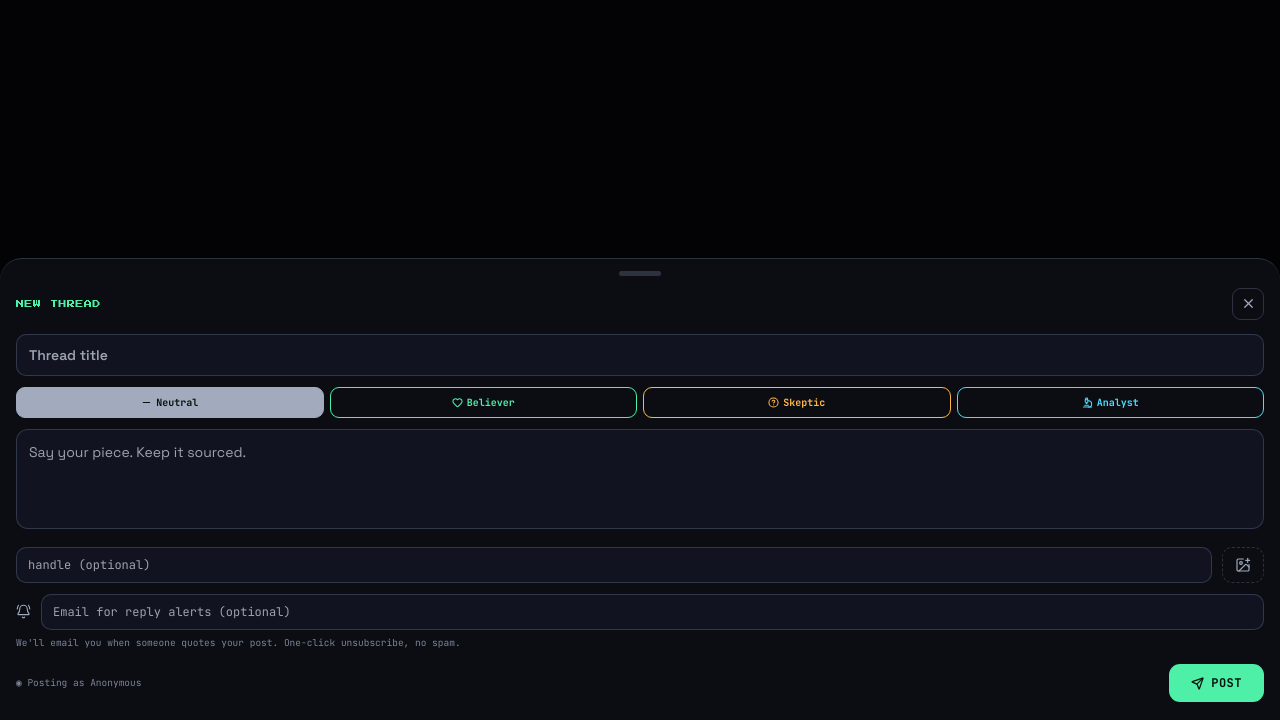
Test case: Composer › toasts 'slow down — too many posts' when the mutation rejects with a 429 ApiError
This screenshot has width=1280, height=720.
Type "Body text here" into the text box with placeholder "Say your piece. Keep it sourced.". click: (640,479)
box: [16,429,1264,529]
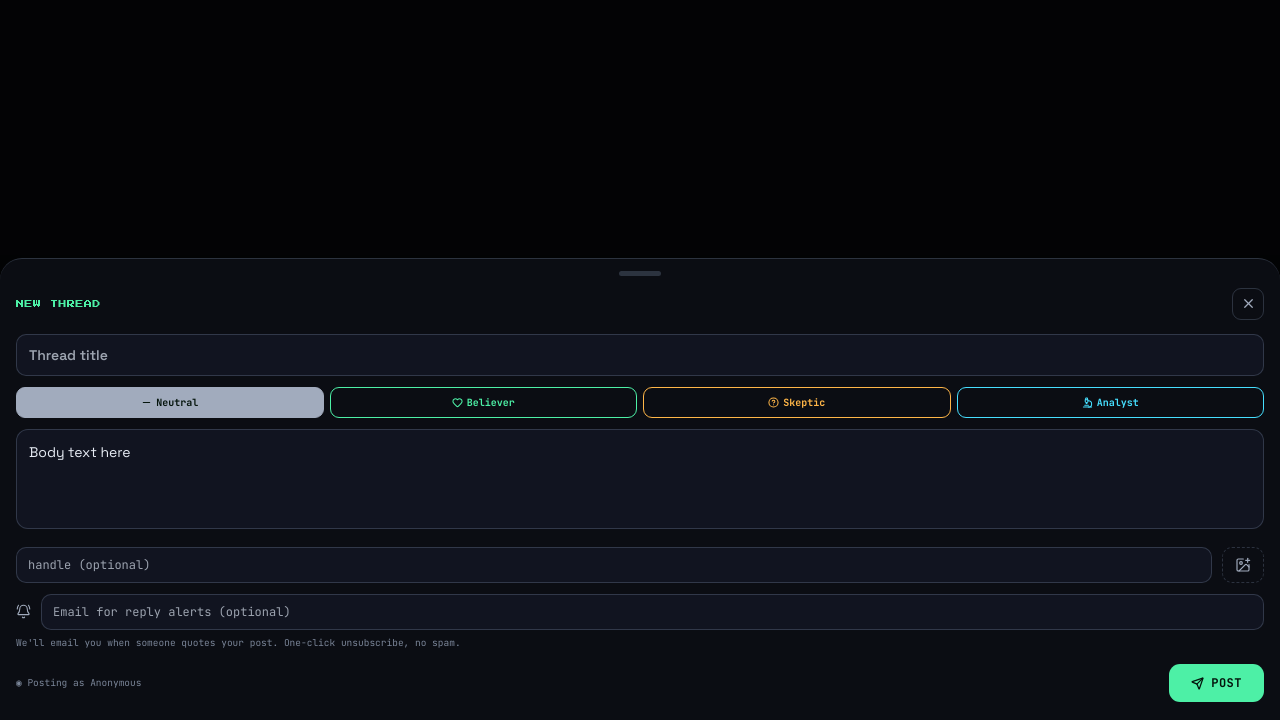
Click the button "POST". click: (1217,683)
box: [1169,664,1264,702]
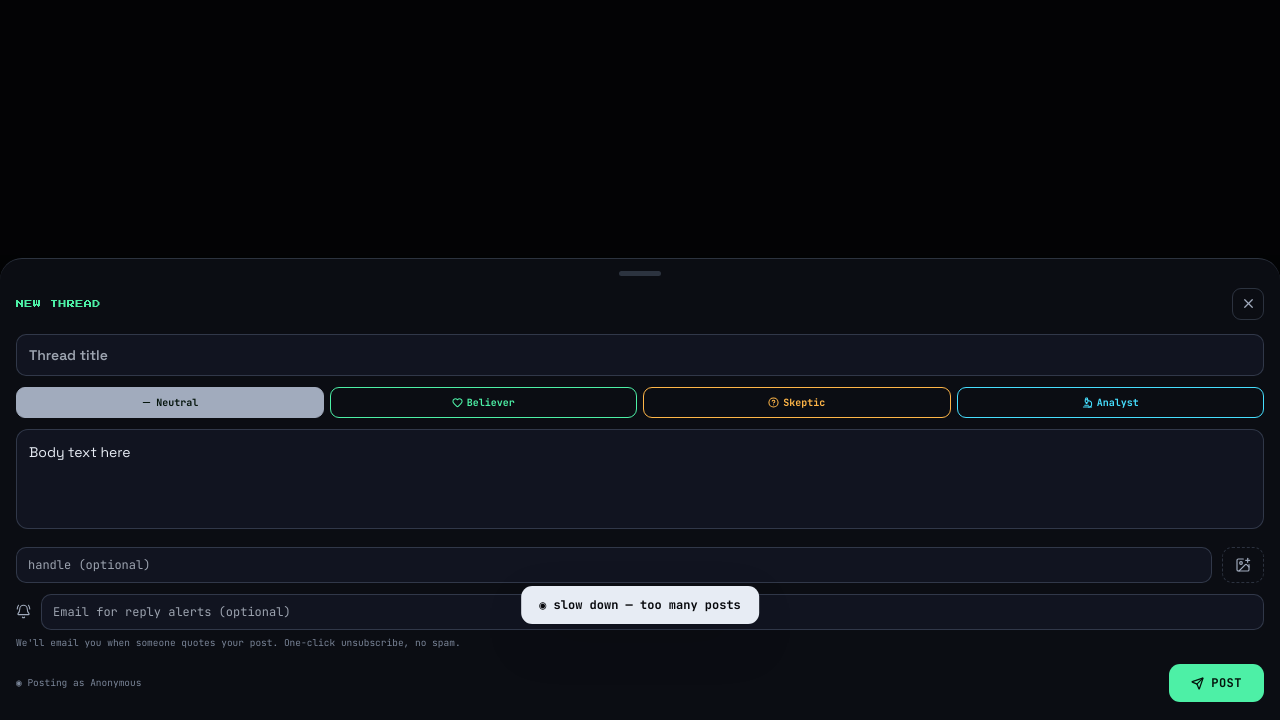
Now the text "◉ slow down — too many posts" is shown, box [521,586,759,624]
